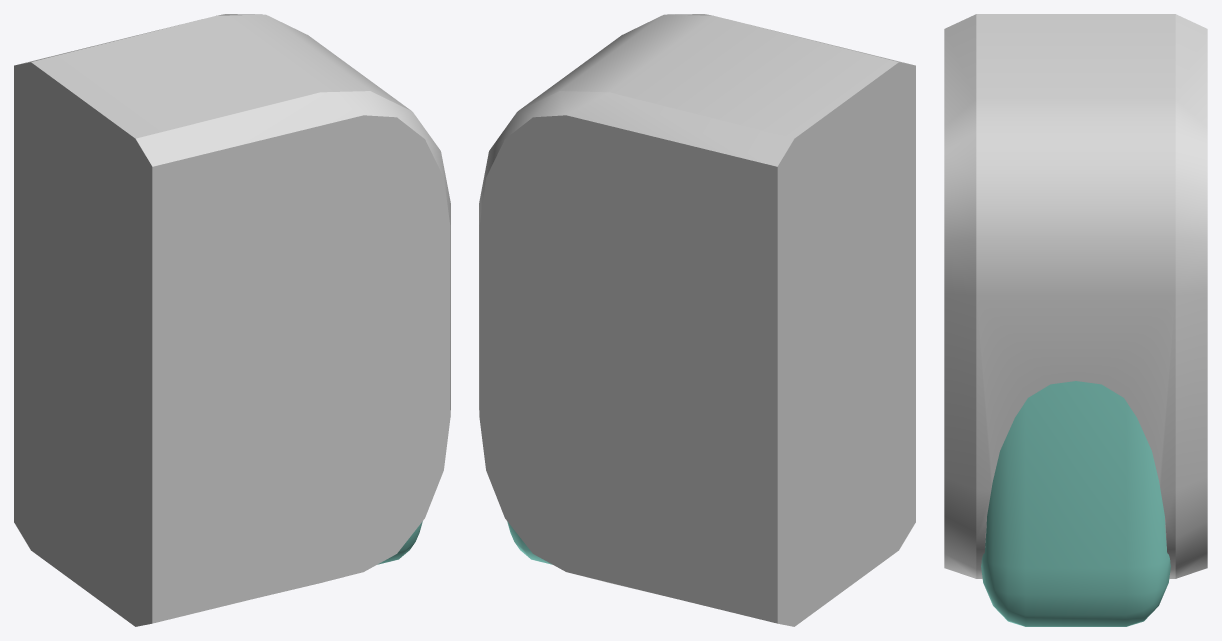
Rendered from mydelko.fbx.
3 renders of one model, left to right at view 1: azimuth 30°, elevation 25°; view 2: azimuth 150°, elevation 25°; view 3: azimuth 270°, elevation 25°, orthographic. The views are drawn at different scales.
Visible parts, largest first — view 1: Cube; view 2: Cube; view 3: Cube.
Part boxes in pixels (x1,y1,x2,y2): Cube: (14,14,450,626); Cube: (479,14,915,626); Cube: (944,14,1207,626).
Bounding box in the file's own units: 212 × 326 × 161.
